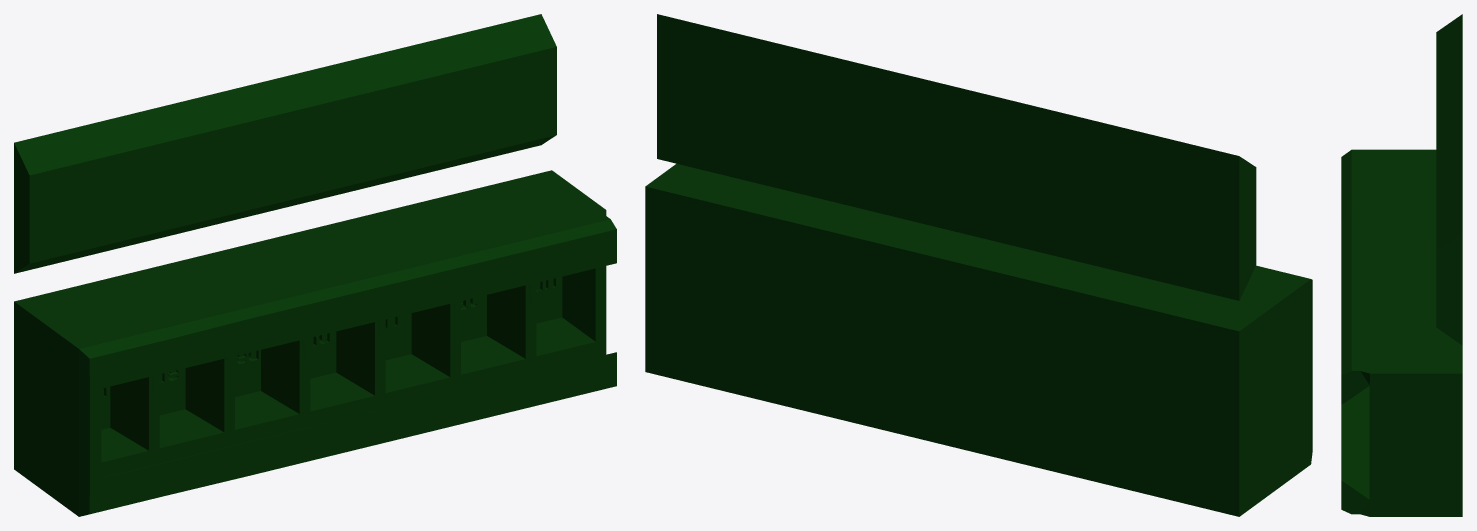
The model's file is pillbox.obj.
3 renders of one model, left to right at view 1: azimuth 30°, elevation 25°; view 2: azimuth 150°, elevation 25°; view 3: azimuth 270°, elevation 25°, orthographic. The views are drawn at different scales.
Parts seen in each view (by area): view 1: Object_0; view 2: Object_0; view 3: Object_0.
Boxes of the visible parts, bbox=[...] form: Object_0: bbox=[14, 14, 616, 516]; Object_0: bbox=[645, 14, 1312, 516]; Object_0: bbox=[1341, 14, 1462, 516].
Bounding box in the file's own units: 0.2 × 0.1161 × 0.0458.
